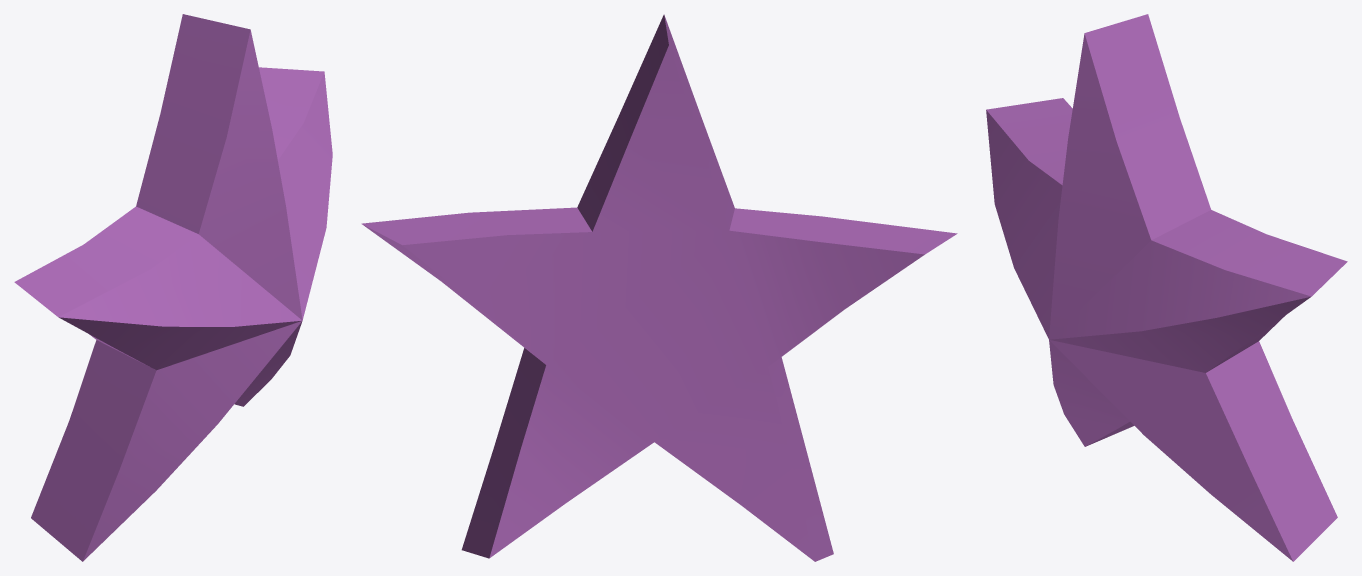
Rendered from BR3_Frame_Star.001 2.glb.
3 renders of one model, left to right at view 1: azimuth 30°, elevation 25°; view 2: azimuth 150°, elevation 25°; view 3: azimuth 270°, elevation 25°, orthographic.
Visible parts, largest first — view 1: BR3_Frame_Star.001; view 2: BR3_Frame_Star.001; view 3: BR3_Frame_Star.001.
Part boxes in pixels (left/top/right/bottom): BR3_Frame_Star.001: left=14, top=14, right=332, bottom=561; BR3_Frame_Star.001: left=361, top=14, right=957, bottom=561; BR3_Frame_Star.001: left=986, top=14, right=1347, bottom=561.
Size of the model in its own units: 0.3734 by 0.4059 by 0.2674.
